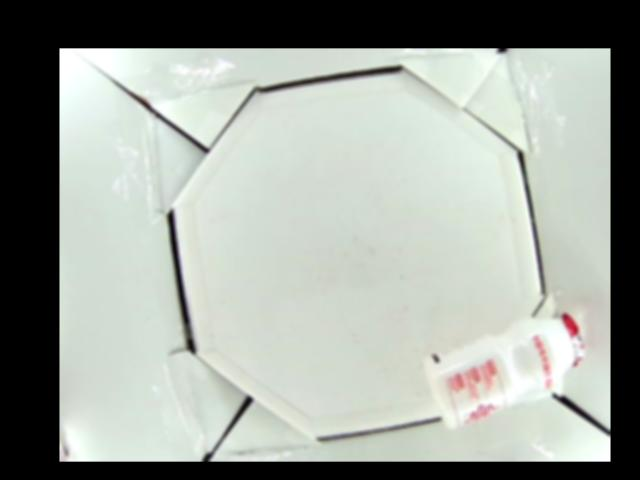Bottle: (423, 312, 585, 434)
